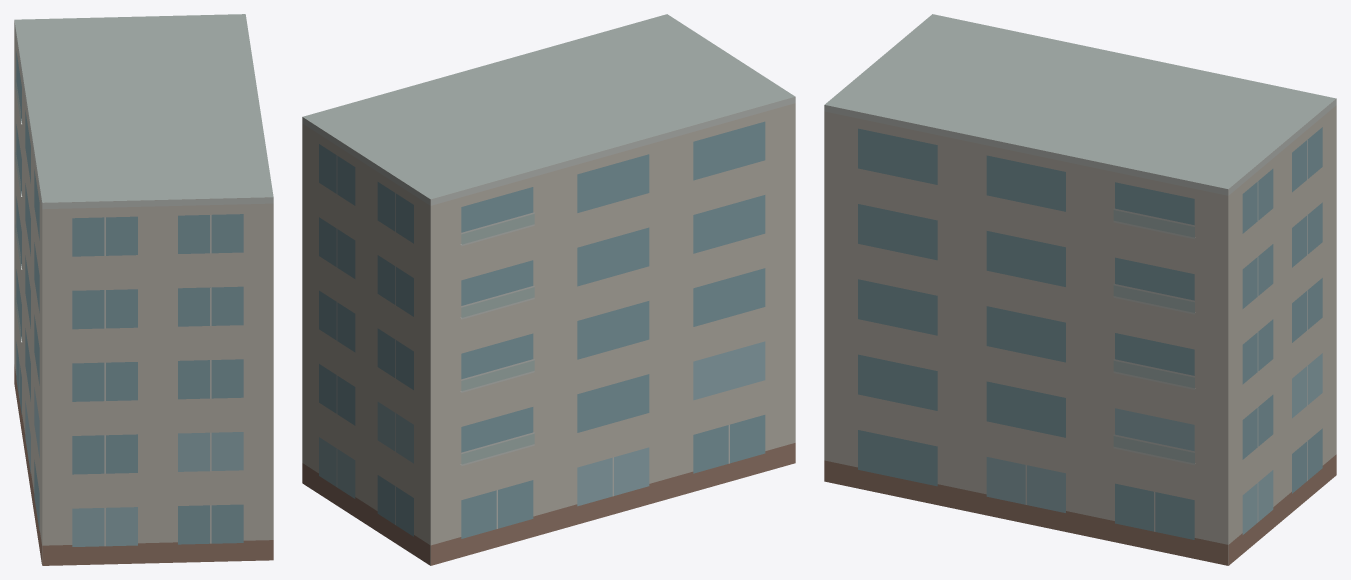
The model's file is survey-upis-32886612.glb.
3 renders of one model, left to right at view 1: azimuth 30°, elevation 25°; view 2: azimuth 150°, elevation 25°; view 3: azimuth 270°, elevation 25°, orthographic. The views are drawn at different scales.
Parts seen in each view (by area): view 1: survey-upis-32886612.tmp; view 2: survey-upis-32886612.tmp; view 3: survey-upis-32886612.tmp.
Part boxes in pixels (x1=…): survey-upis-32886612.tmp: x1=14, y1=14, x2=273, y2=565; survey-upis-32886612.tmp: x1=302, y1=14, x2=795, y2=565; survey-upis-32886612.tmp: x1=824, y1=14, x2=1336, y2=565.
Size of the model in its own units: 13.88 by 13.9 by 17.14.
